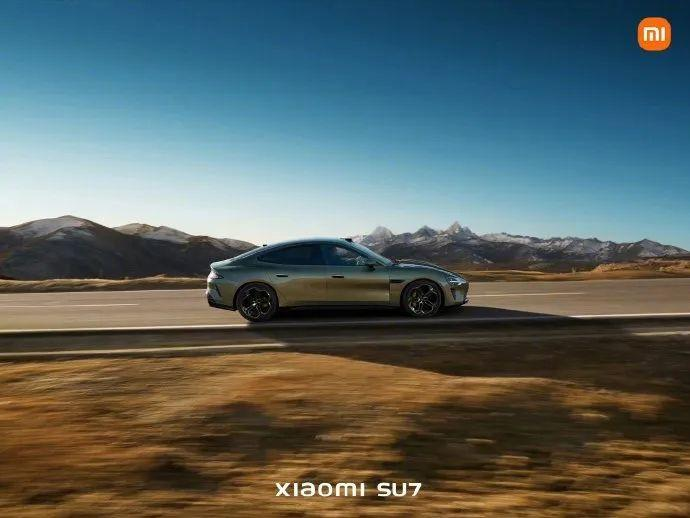su7: (203, 240, 466, 314)
